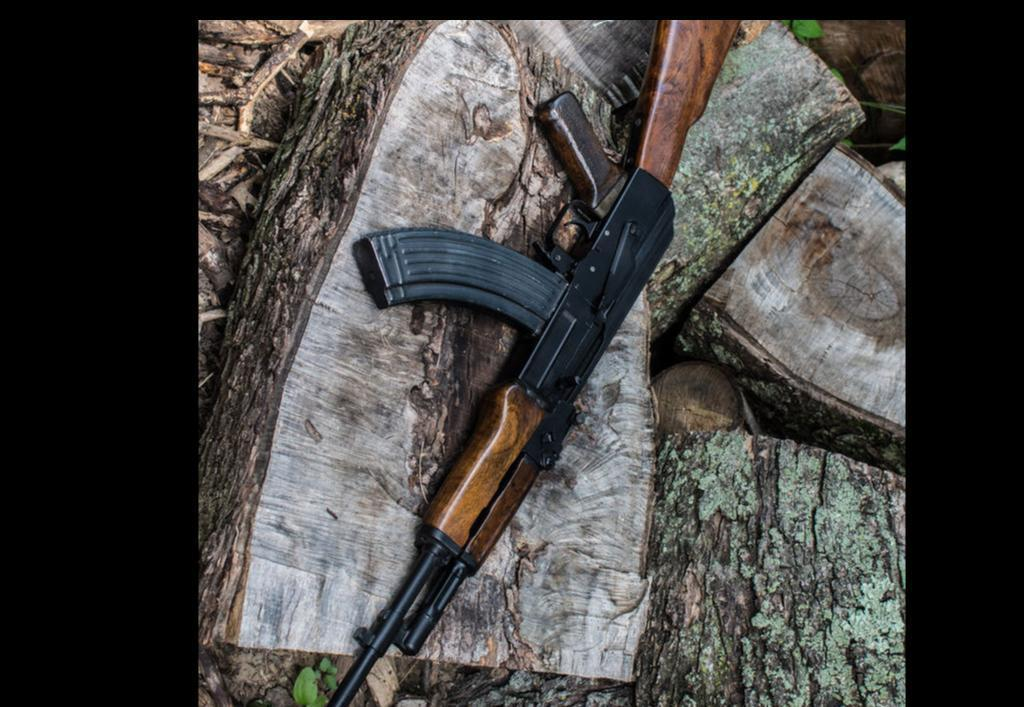gun: (479, 307, 752, 480)
